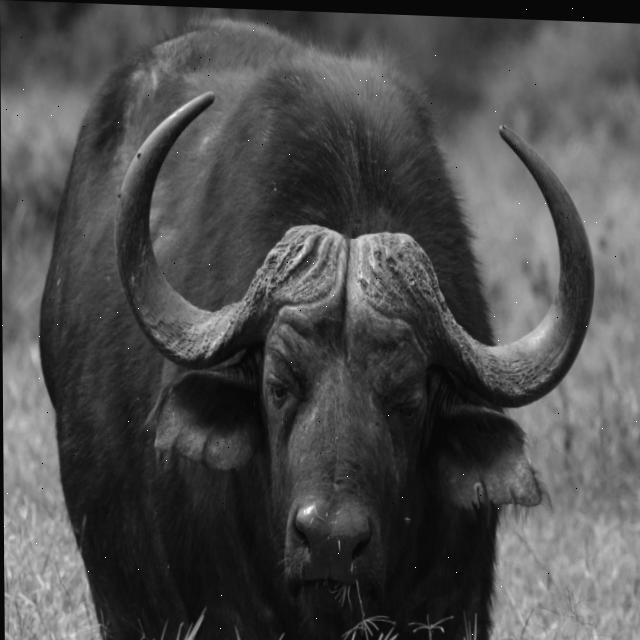Buffalo: (37, 11, 598, 640)
